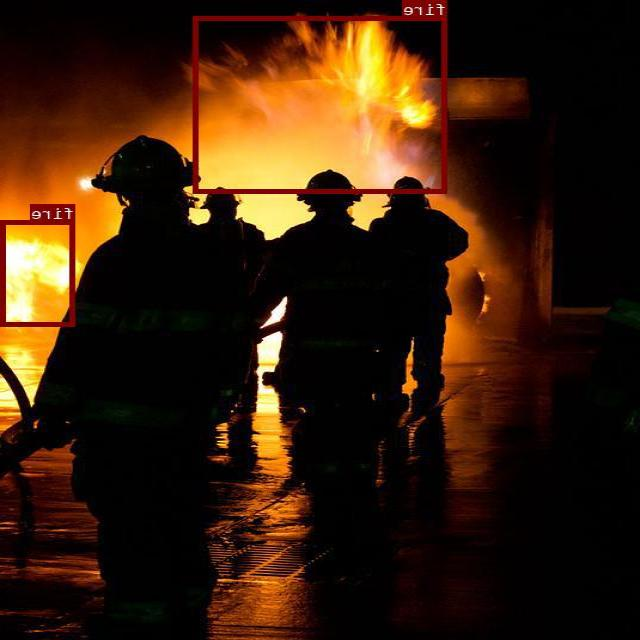fire: (195, 15, 448, 193), (2, 219, 76, 325)
